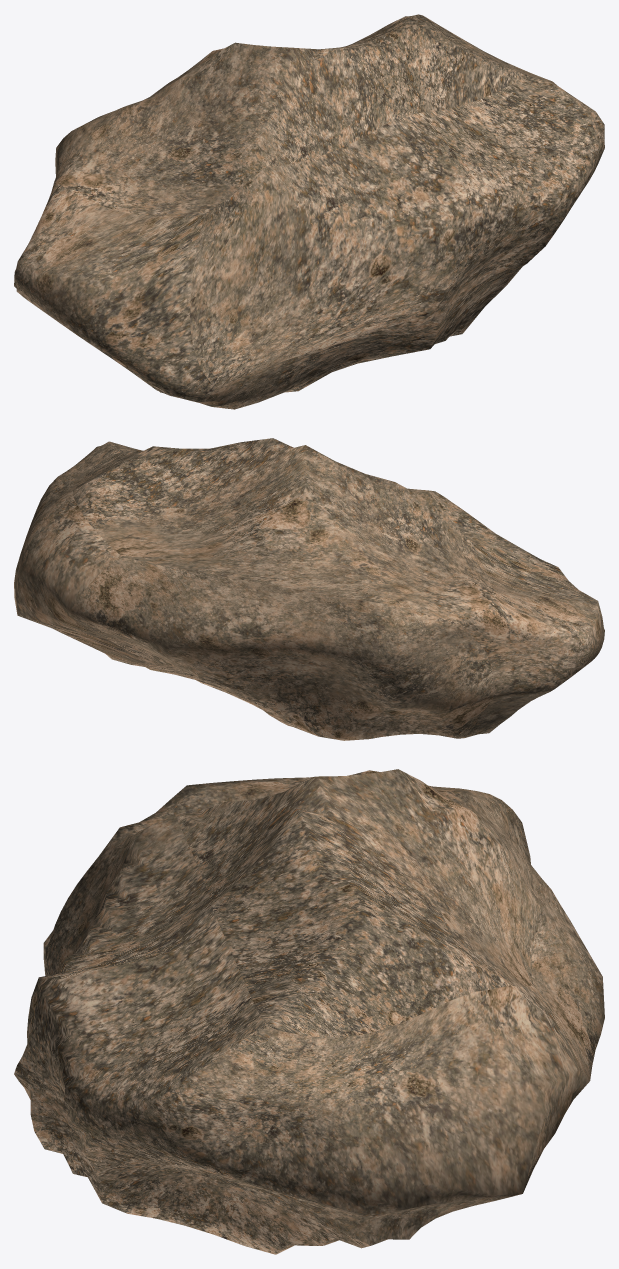
Rendered from rock2.fbx.
3 renders of one model, top to bottom at view 1: azimuth 30°, elevation 25°; view 2: azimuth 150°, elevation 25°; view 3: azimuth 270°, elevation 25°, orthographic. The views are drawn at different scales.
Visible parts, largest first — view 1: Cube.001; view 2: Cube.001; view 3: Cube.001.
Part boxes in pixels (box(x1,y1,x2,y2)): Cube.001: box(14, 14, 604, 409); Cube.001: box(14, 438, 604, 740); Cube.001: box(14, 769, 604, 1254).
Bounding box in the file's own units: 824 × 411 × 530.
